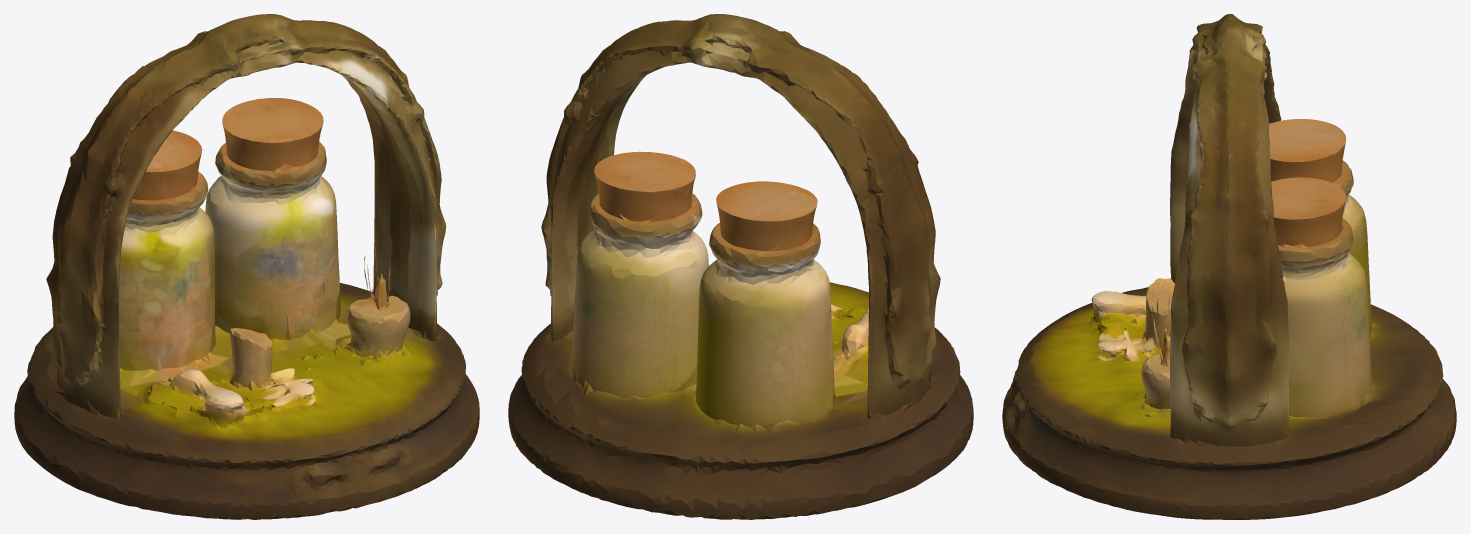
The picture shows the model from 3 angles, left to right: view 1: azimuth 30°, elevation 25°; view 2: azimuth 150°, elevation 25°; view 3: azimuth 270°, elevation 25°; orthographic projection. The views are drawn at different scales.
Parts seen in each view (by area): view 1: 023; view 2: 023; view 3: 023.
Part boxes in pixels (bbox=[...]): 023: bbox=[14, 14, 479, 519]; 023: bbox=[508, 14, 973, 519]; 023: bbox=[1002, 14, 1456, 519].
Bounding box in the file's own units: 1.9 × 1.82 × 1.9.
1 material, 1 textured.
